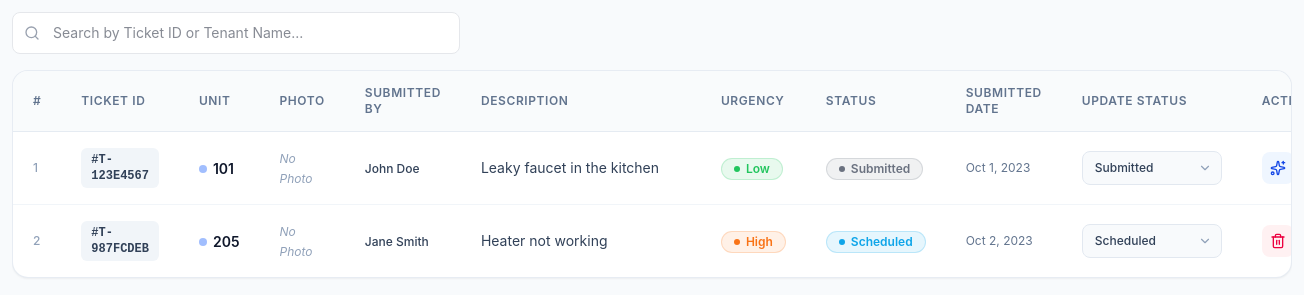
TicketsTable Component › filters tickets by search query
This screenshot has width=1304, height=295.
Note: Type 'Jane' to filter for Jane Smith's ticket
In the field with placeholder "Search by Ticket ID or Tenant Name...": {"x": 236, "y": 33} [12, 12, 460, 54], type "Jane"
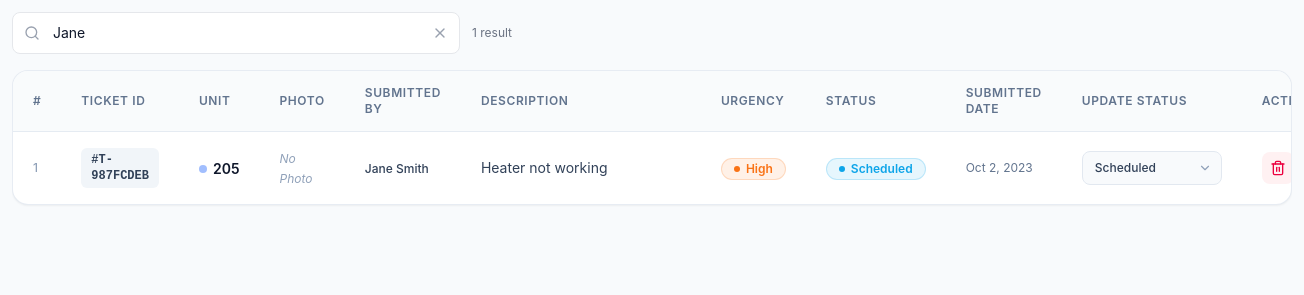
Check: the text "Jane Smith" is shown, box [365, 161, 429, 176]
Check: the text "John Doe" is gone
